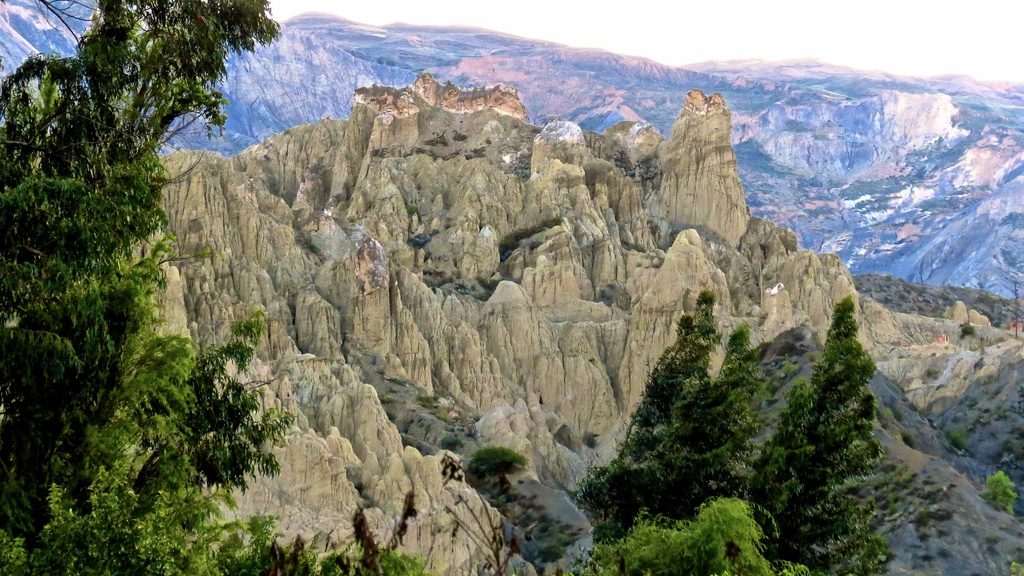Tree: (0, 0, 430, 576), (572, 287, 887, 576), (562, 496, 812, 576), (468, 444, 528, 490), (979, 469, 1018, 519)
